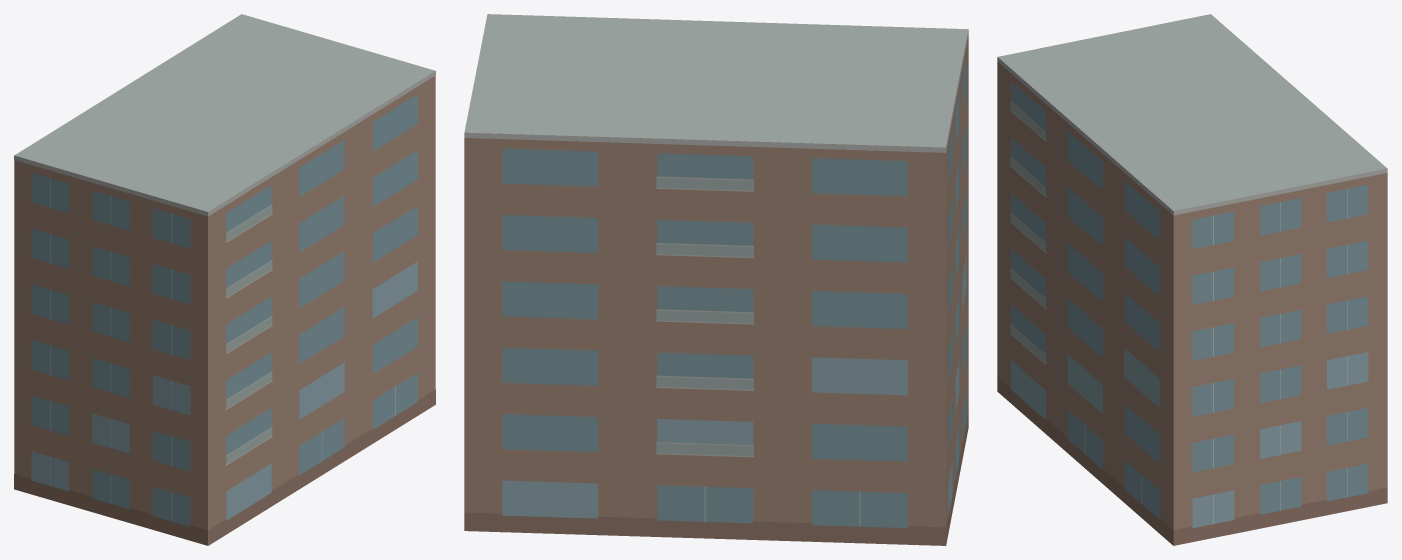
Rendered from survey-upis-33046371.glb.
The picture shows the model from 3 angles, left to right: view 1: azimuth 30°, elevation 25°; view 2: azimuth 150°, elevation 25°; view 3: azimuth 270°, elevation 25°; orthographic projection. The views are drawn at different scales.
Visible parts, largest first — view 1: survey-upis-33046371.tmp; view 2: survey-upis-33046371.tmp; view 3: survey-upis-33046371.tmp.
Boxes of the visible parts, x1,y1,x2,y2 form: survey-upis-33046371.tmp: (14, 14, 435, 545); survey-upis-33046371.tmp: (464, 14, 968, 545); survey-upis-33046371.tmp: (997, 14, 1387, 545).
Size of the model in its own units: 23.13 by 18.3 by 19.34.
